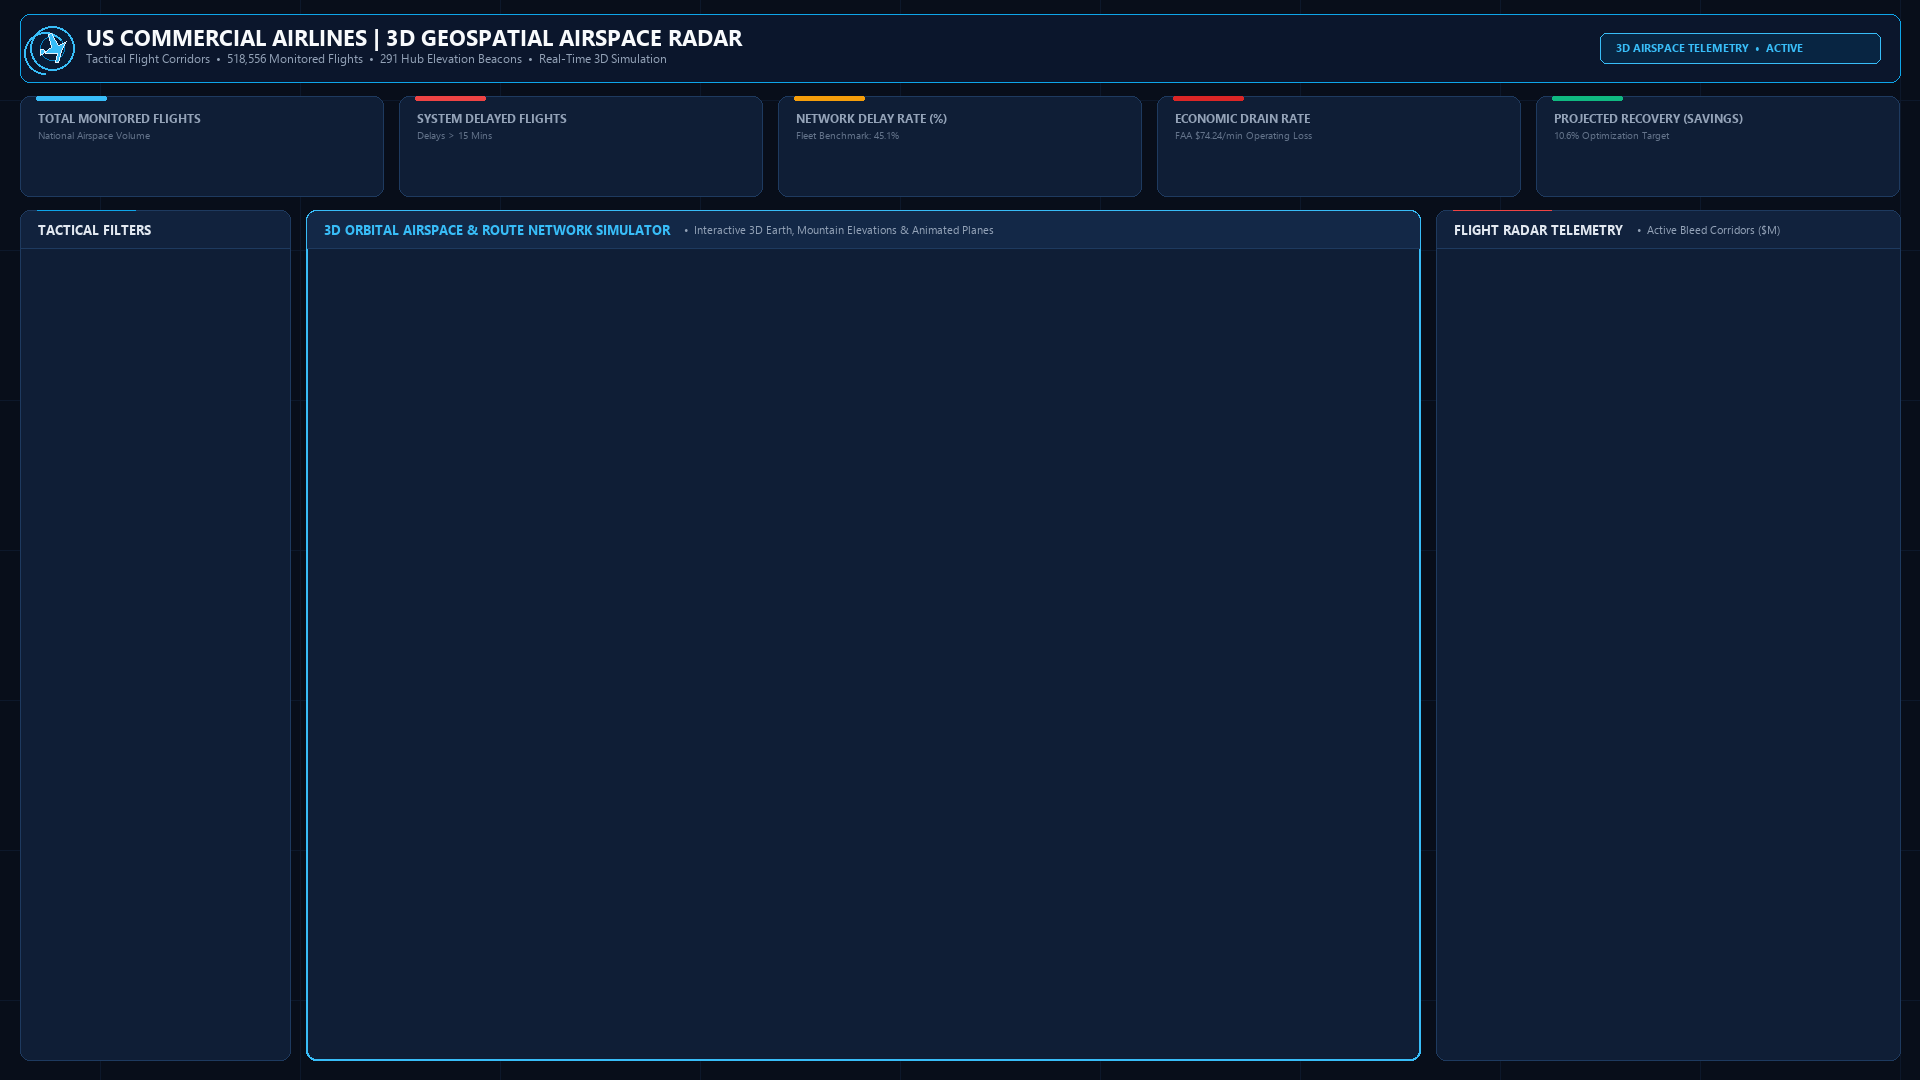

Layout of this report page (visuals, bound fields, positions):
{"tool":"powerbi","page":{"name":"Page 2","canvas":[1920,1080],"ordinal":1},"visuals":[{"type":"usAviationFlightMapB43F516D783B4A84A0828C961758EE5D","fields":{"origin":["powerbi_route_carrier_matrix.AirportFrom"],"destination":["powerbi_route_carrier_matrix.AirportTo"],"volume":["Sum(powerbi_route_carrier_matrix.flight_volume)"],"delayRate":["powerbi_route_carrier_matrix.Delay Rate %"],"carrier":["powerbi_route_carrier_matrix.carrier_name"],"airport":["powerbi_route_carrier_matrix.AirportFrom"]},"box":[304.8,238.2,1111.1,816.7],"z":0},{"type":"cardVisual","fields":{"Data":["powerbi_route_carrier_matrix.Total Flights"]},"box":[23.1,95.7,358,94],"z":1000},{"type":"cardVisual","fields":{"Data":["powerbi_route_carrier_matrix.Delayed Flights"]},"box":[404.1,95.7,358,94],"z":2000},{"type":"cardVisual","fields":{"Data":["powerbi_route_carrier_matrix.Delay Rate %"]},"box":[780.2,95.7,358,94],"z":3000},{"type":"cardVisual","fields":{"Data":["powerbi_route_carrier_matrix.Loss ($M)"]},"box":[1161.2,95.7,357.9,94],"z":4000},{"type":"cardVisual","fields":{"Data":["powerbi_route_carrier_matrix.Projected Savings ($M)"]},"box":[1539,95.7,358,94],"z":5000},{"type":"slicer","title":"Airline ","fields":{"Values":["powerbi_route_carrier_matrix.carrier_name"]},"box":[26.4,245.8,267.2,262.3],"z":5001},{"type":"slicer","title":"Loss_category","fields":{"Values":["powerbi_route_carrier_matrix.Financial Loss Tier"]},"box":[26.4,517.9,267.2,262.3],"z":5002},{"type":"slicer","title":"Origin Climate Zone","fields":{"Values":["powerbi_route_carrier_matrix.from_climate_tier"]},"box":[26.4,780.2,267.2,262.3],"z":5003},{"type":"tableEx","fields":{"Values":["powerbi_route_carrier_matrix.Route","powerbi_route_carrier_matrix.carrier_name","Sum(powerbi_route_carrier_matrix.flight_volume)","powerbi_route_carrier_matrix.Economic Loss ($)"]},"box":[1438.4,244.1,458.6,809.9],"z":5004}]}

Visuals, with their boxes in screenshot pixels (x1, y1, x2, y2), scaled from the page's 1920x1080 canvas onto the 1920x1080 screenshot:
usAviationFlightMapB43F516D783B4A84A0828C961758EE5D - powerbi_route_carrier_matrix.AirportFrom x powerbi_route_carrier_matrix.AirportTo: pyautogui.locateOnScreen(305, 238, 1416, 1055)
cardVisual - powerbi_route_carrier_matrix.Total Flights: pyautogui.locateOnScreen(23, 96, 381, 190)
cardVisual - powerbi_route_carrier_matrix.Delayed Flights: pyautogui.locateOnScreen(404, 96, 762, 190)
cardVisual - powerbi_route_carrier_matrix.Delay Rate %: pyautogui.locateOnScreen(780, 96, 1138, 190)
cardVisual - powerbi_route_carrier_matrix.Loss ($M): pyautogui.locateOnScreen(1161, 96, 1519, 190)
cardVisual - powerbi_route_carrier_matrix.Projected Savings ($M): pyautogui.locateOnScreen(1539, 96, 1897, 190)
"Airline " slicer: pyautogui.locateOnScreen(26, 246, 294, 508)
"Loss_category" slicer: pyautogui.locateOnScreen(26, 518, 294, 780)
"Origin Climate Zone" slicer: pyautogui.locateOnScreen(26, 780, 294, 1042)
tableEx - powerbi_route_carrier_matrix.Route x powerbi_route_carrier_matrix.carrier_name: pyautogui.locateOnScreen(1438, 244, 1897, 1054)
